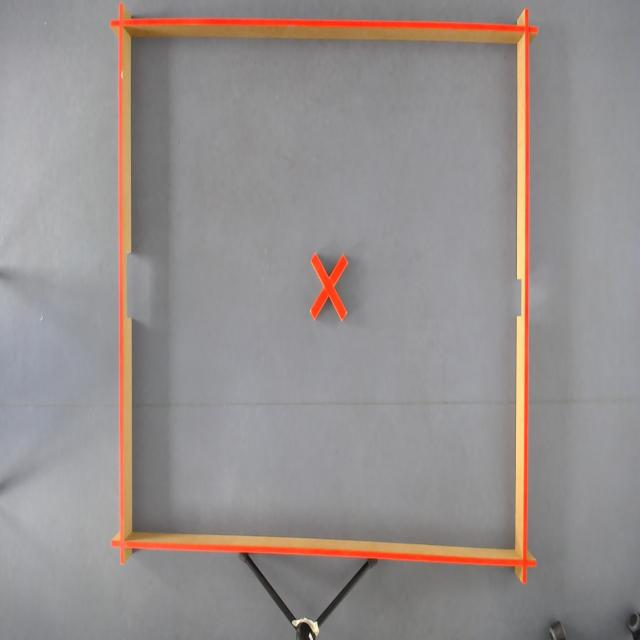cross: (309, 251, 349, 323)
